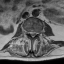CCS_normal: (31, 30, 34, 39)
LFS_stenosis: (36, 30, 38, 36)
LLS_normal: (34, 30, 36, 38)
RFS_stenosis: (27, 30, 29, 36)
RLS_normal: (29, 30, 31, 36)
